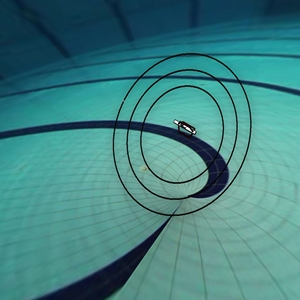circle: (104, 45, 262, 221)
submarine: (159, 110, 207, 143)
